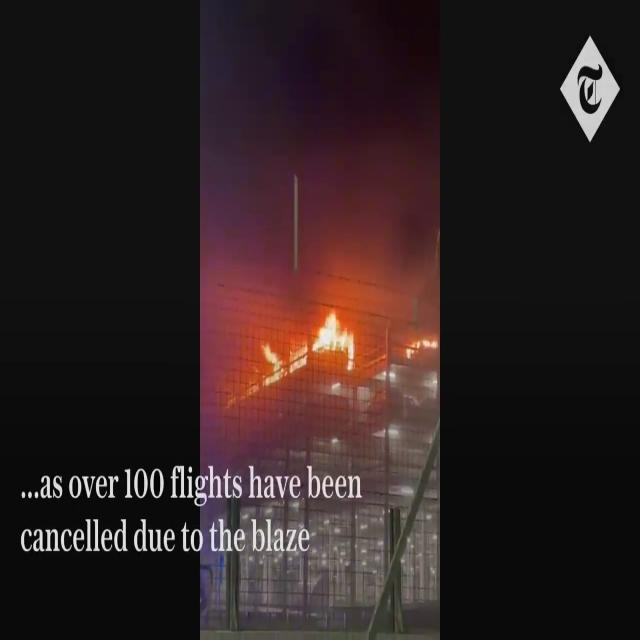Fire: (258, 302, 359, 379)
Smoke: (200, 1, 440, 323)
